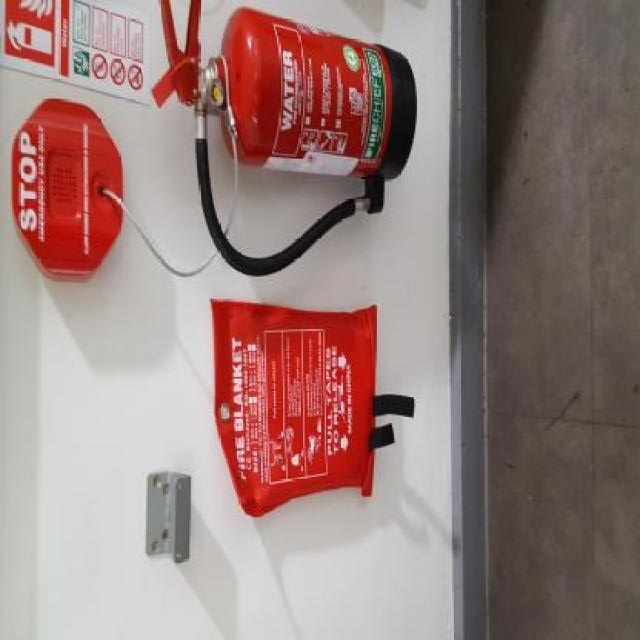fire extinguisher: (149, 2, 418, 278)
